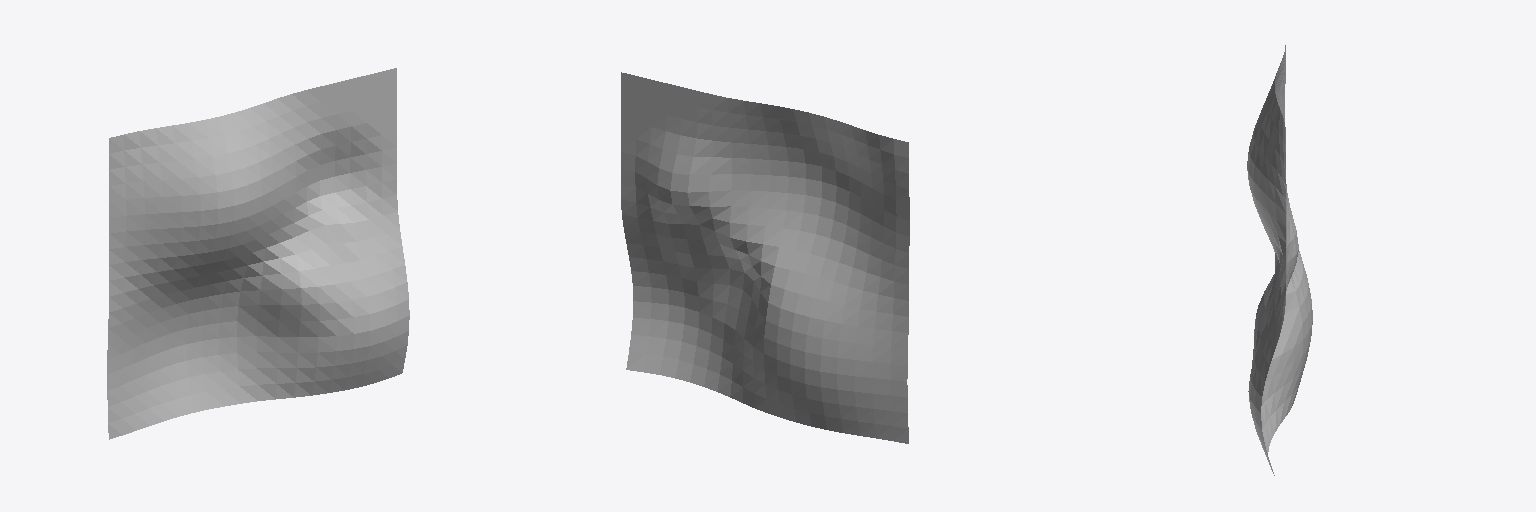
File: heightmap.obj
The picture shows the model from 3 angles: view 1: azimuth 30°, elevation 25°; view 2: azimuth 150°, elevation 25°; view 3: azimuth 270°, elevation 25°; orthographic projection.
Visible parts, largest first — view 1: Grid; view 2: Grid; view 3: Grid.
Boxes of the visible parts, x1,y1,x2,y2 form: Grid: [107, 68, 409, 439]; Grid: [621, 72, 909, 443]; Grid: [1247, 45, 1312, 475].
Bounding box in the file's own units: 20 × 20 × 3.98.